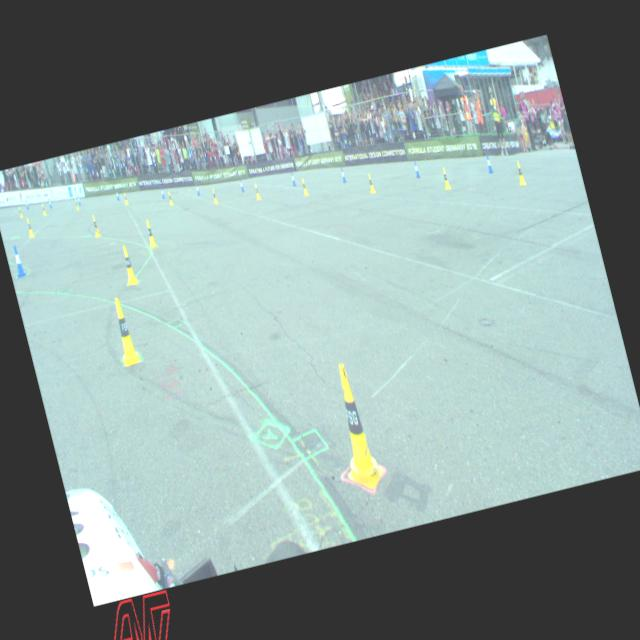blue_cone: (10, 244, 26, 277), (484, 153, 493, 173), (412, 160, 420, 178), (339, 166, 346, 182), (290, 170, 296, 187), (238, 178, 244, 191), (194, 183, 200, 195), (114, 188, 120, 200), (76, 194, 81, 205), (160, 188, 164, 198), (24, 199, 28, 209), (48, 198, 52, 208)
yellow_cone: (321, 360, 387, 493), (108, 295, 141, 366), (118, 243, 138, 285), (144, 218, 158, 248), (514, 160, 526, 186), (440, 166, 450, 189), (90, 214, 100, 236), (25, 217, 34, 237), (366, 173, 375, 193), (300, 178, 308, 195), (210, 188, 218, 204), (253, 182, 260, 200), (167, 190, 173, 204), (40, 202, 46, 215), (122, 191, 128, 204), (18, 205, 23, 218), (74, 198, 79, 209)
